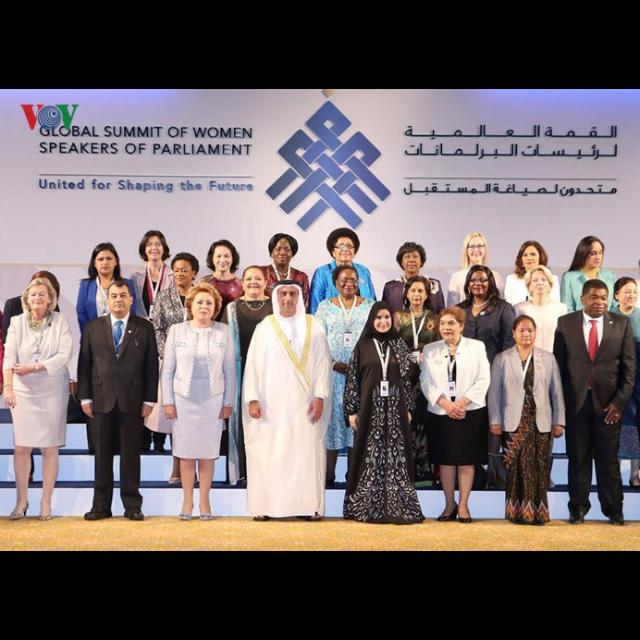head: (580, 278, 612, 318), (31, 270, 60, 308), (104, 282, 136, 314), (172, 252, 200, 288), (240, 266, 270, 298), (189, 288, 217, 322), (330, 233, 360, 264), (438, 309, 466, 341), (276, 278, 302, 312), (467, 264, 493, 298), (398, 243, 426, 274), (93, 244, 119, 276), (334, 266, 360, 298), (512, 316, 538, 348), (579, 238, 605, 270), (212, 240, 236, 274), (26, 282, 52, 312), (271, 236, 297, 266), (527, 266, 553, 296), (371, 302, 395, 334), (407, 276, 431, 308), (144, 232, 166, 264), (520, 242, 544, 270), (465, 233, 487, 263)
person: (236, 277, 338, 528), (546, 277, 638, 528), (74, 280, 160, 526), (156, 278, 240, 526), (298, 264, 389, 492), (477, 314, 569, 528), (0, 276, 78, 524), (342, 300, 426, 528), (438, 266, 520, 492), (145, 249, 221, 489), (213, 264, 290, 492), (238, 233, 316, 457), (416, 302, 494, 526), (307, 227, 379, 459), (502, 265, 574, 495), (376, 242, 449, 458), (444, 231, 511, 459), (378, 275, 449, 489), (72, 240, 140, 458), (2, 269, 68, 491), (125, 229, 187, 457), (188, 238, 252, 458), (557, 235, 621, 427), (501, 242, 565, 428)
